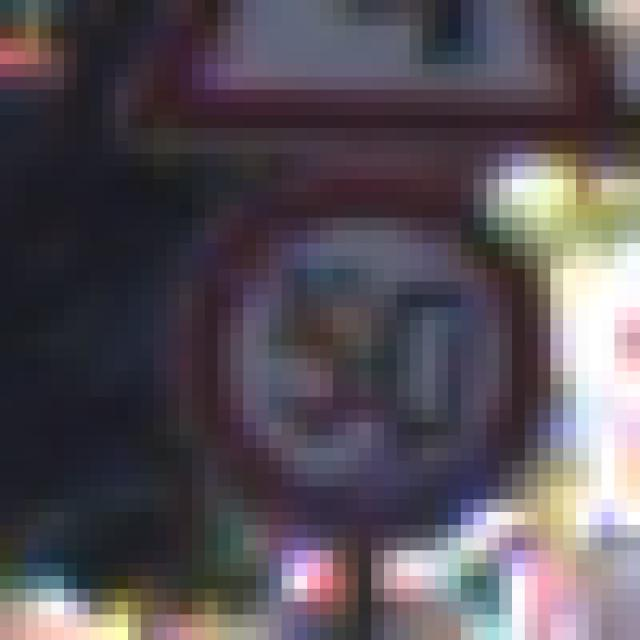Limite-50: (173, 163, 555, 544)
